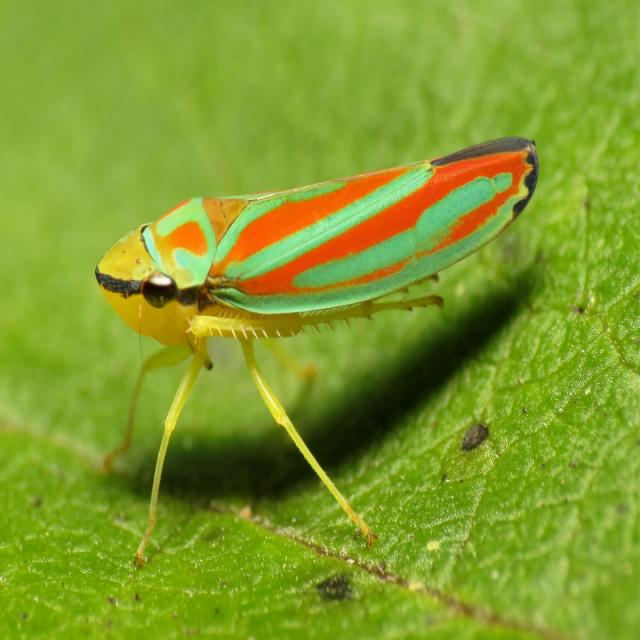Yechan: (81, 118, 552, 441)
